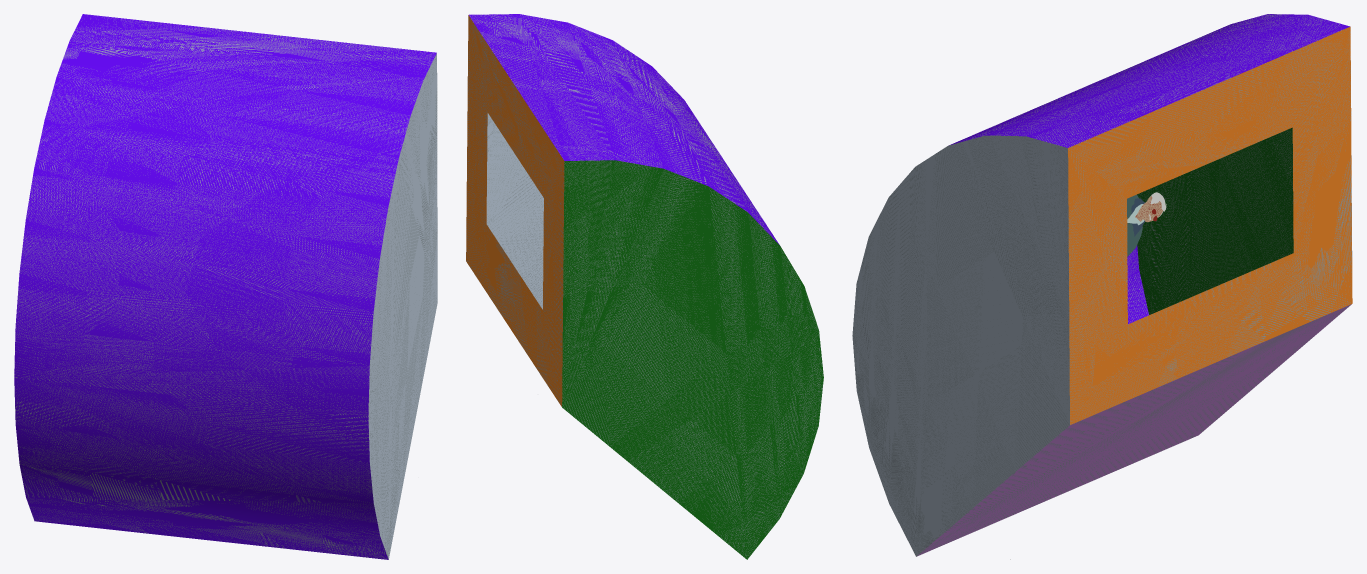
File: stan.dae
3 renders of one model, left to right at view 1: azimuth 30°, elevation 25°; view 2: azimuth 150°, elevation 25°; view 3: azimuth 270°, elevation 25°, orthographic. The views are drawn at different scales.
Parts seen in each view (by area): view 1: SketchUp (×2); view 2: SketchUp (×4); view 3: SketchUp (×5).
Part boxes in pixels (box(x1,y1,x2,y2)): SketchUp (×2): box(14, 14, 437, 559); SketchUp (×4): box(466, 14, 823, 559); SketchUp (×5): box(852, 14, 1352, 556).
Bounding box in the file's own units: 149 × 148 × 155.
